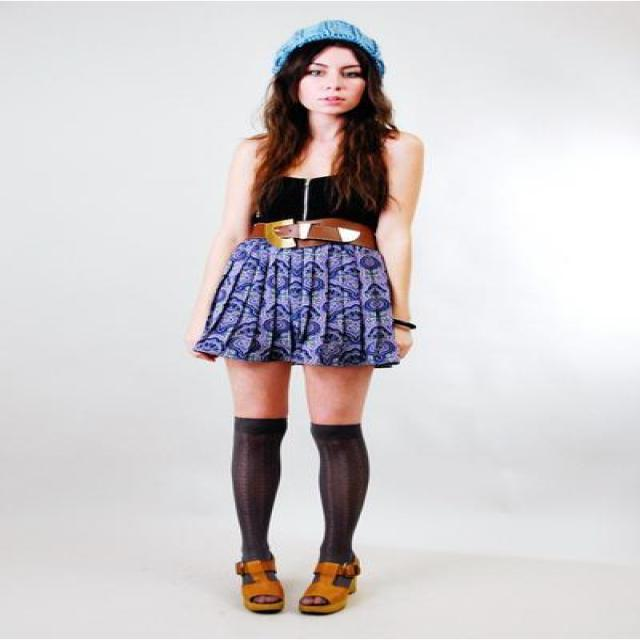shirt: (250, 177, 387, 242)
shoe: (235, 559, 357, 600)
skirt: (194, 219, 402, 370)
